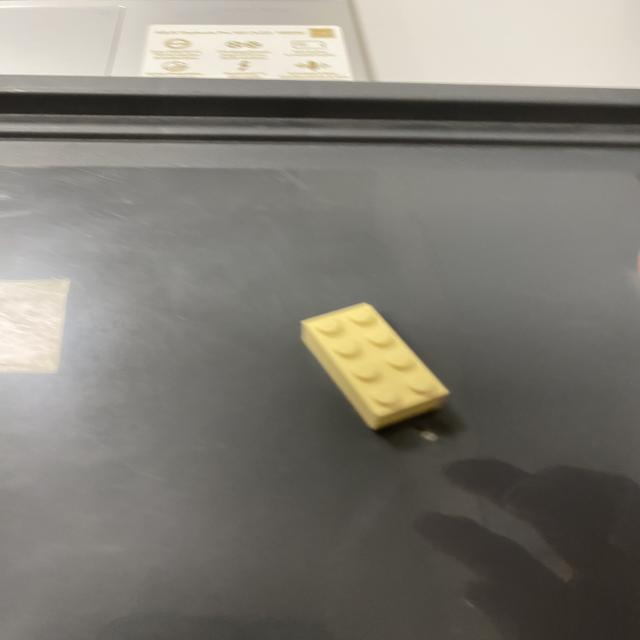C4x2x1: (297, 302, 451, 431), (376, 390, 452, 430)
